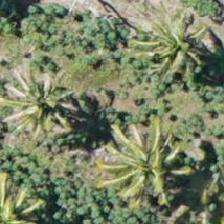coconut_tree: (113, 133, 203, 223), (6, 52, 96, 142), (132, 0, 222, 86)
